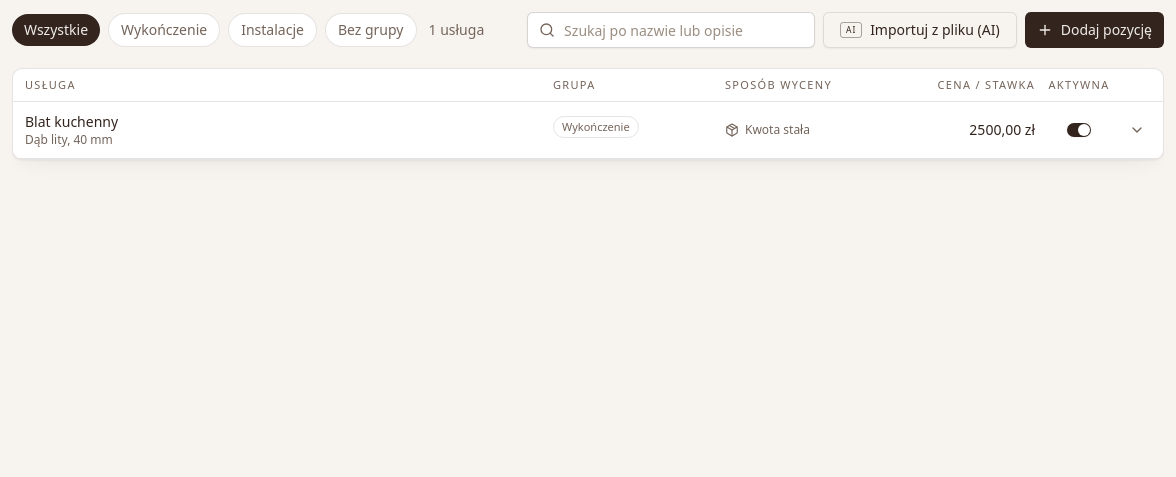
Test case: LibraryItemsTab — zwijane wiersze (T-72) › klik w ptaszek tez rozwija wiersz
This screenshot has width=1176, height=477.
Click the button with test id "library-item-chevron" at (1137, 130), box [1123, 116, 1151, 144]
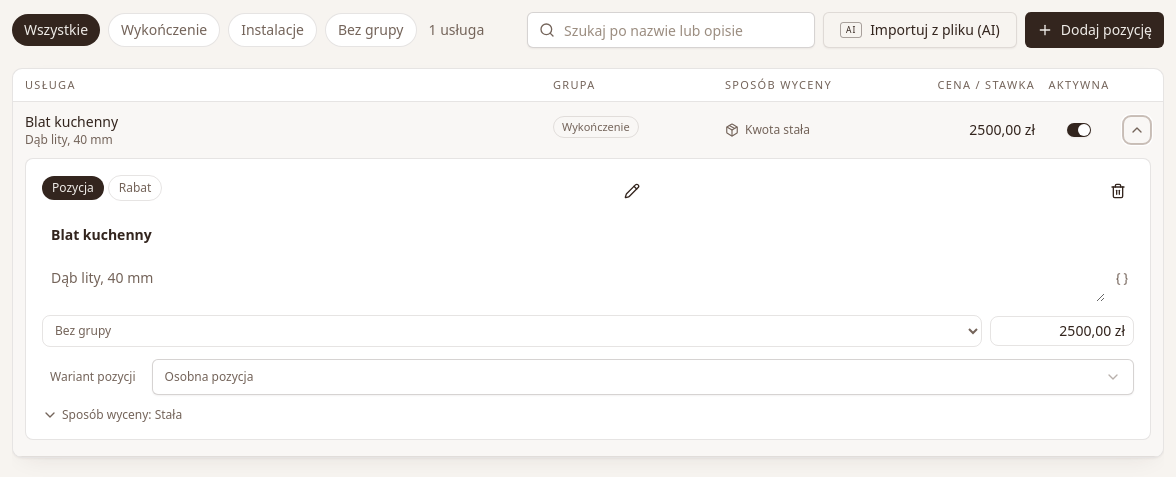
Expected: the field named "Nazwa pozycji: Blat kuchenny" is shown, [42, 219, 1134, 251]
